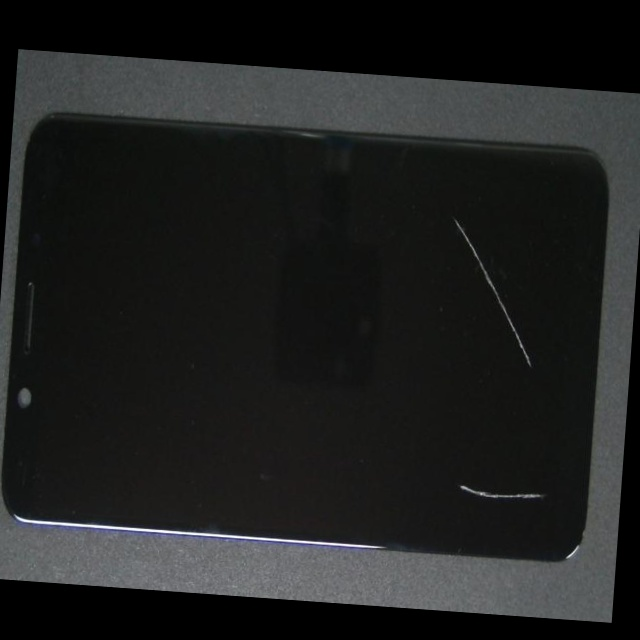scratch: (309, 272, 635, 623), (307, 279, 635, 428)
